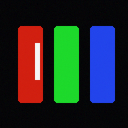4 line_v: (35, 43, 39, 79)
